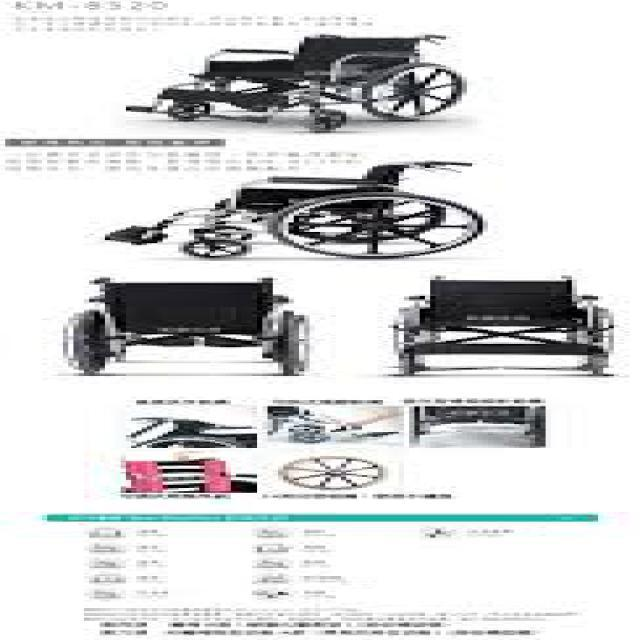wheelchair: (73, 158, 588, 266), (89, 18, 488, 128), (26, 268, 331, 382), (378, 274, 608, 381)
